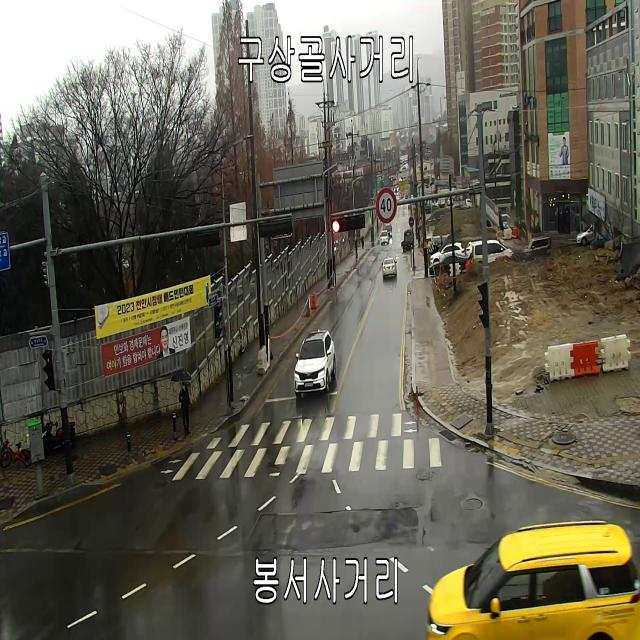Car: (427, 519, 640, 640), (294, 329, 336, 395), (471, 241, 513, 264), (430, 242, 465, 265), (429, 255, 467, 276), (524, 237, 552, 258), (576, 224, 593, 246), (382, 257, 397, 277), (401, 229, 414, 252), (380, 230, 389, 245), (460, 198, 472, 209), (384, 225, 392, 238), (466, 242, 472, 258)
